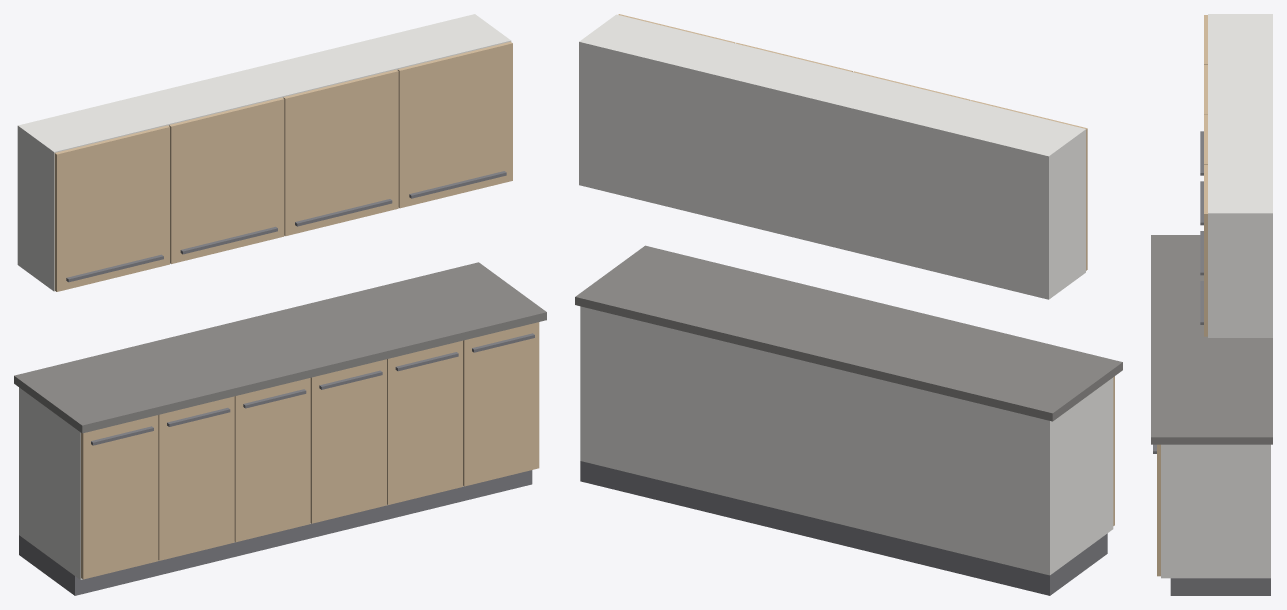
File: cocina.glb
The picture shows the model from 3 angles, left to right: view 1: azimuth 30°, elevation 25°; view 2: azimuth 150°, elevation 25°; view 3: azimuth 270°, elevation 25°; orthographic projection. The views are drawn at different scales.
Visible parts, largest first — view 1: Mueble; view 2: Mueble; view 3: Mueble.
Part boxes in pixels (bbox=[...]): Mueble: bbox=[14, 14, 546, 595]; Mueble: bbox=[575, 14, 1122, 595]; Mueble: bbox=[1151, 14, 1272, 595].
Bounding box in the file's own units: 2.44 × 2.15 × 0.62.
